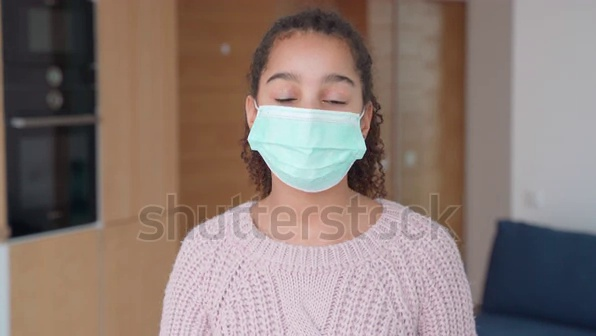Mask: (245, 104, 373, 196)
